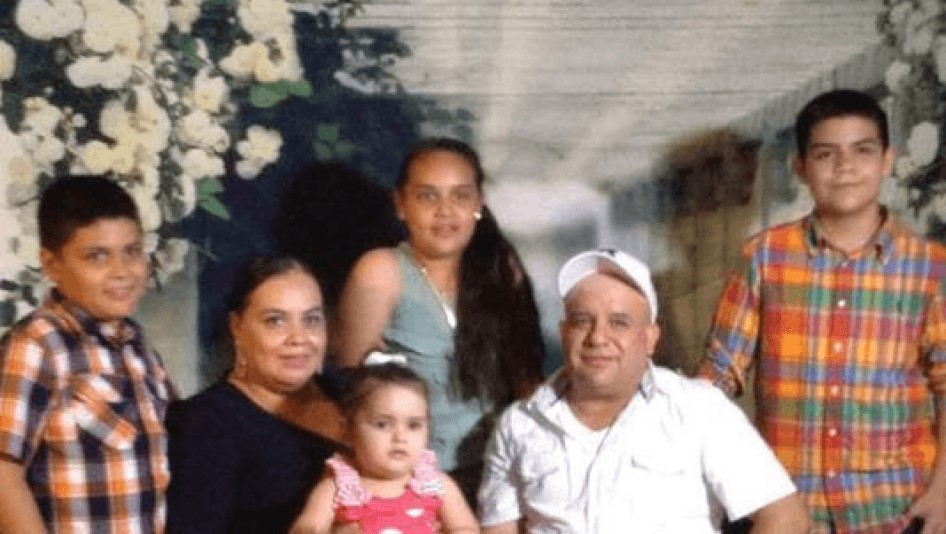face_no_mask: (39, 176, 144, 316), (228, 253, 327, 396), (558, 262, 656, 395), (792, 89, 894, 212), (395, 134, 484, 254), (340, 363, 428, 479)
